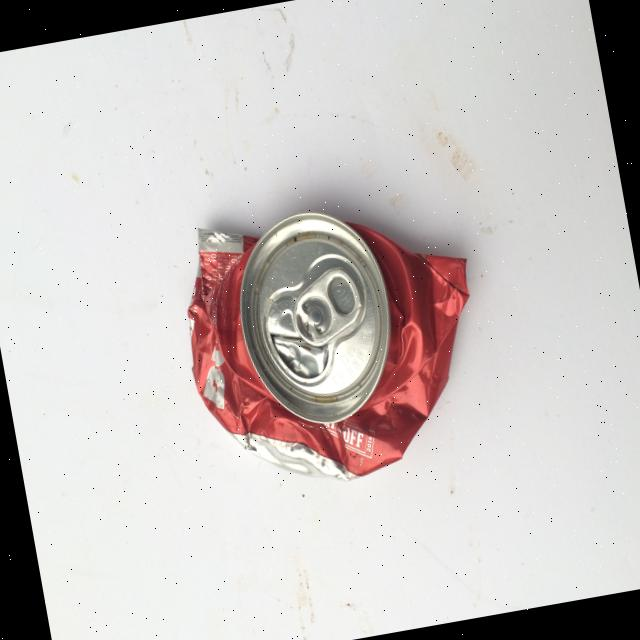metal: (223, 198, 408, 436)
